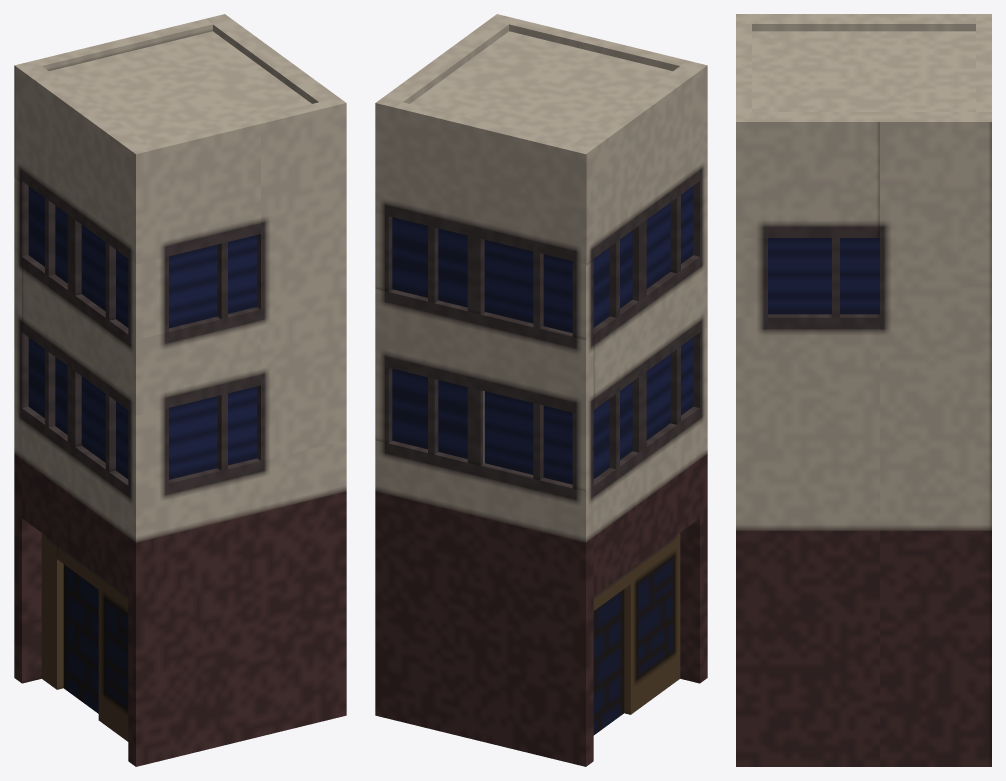
3 views of the same model, side by side, from view 1: azimuth 30°, elevation 25°; view 2: azimuth 150°, elevation 25°; view 3: azimuth 270°, elevation 25° (orthographic). The views are drawn at different scales.
Parts seen in each view (by area): view 1: Content; view 2: Content; view 3: Content.
Part boxes in pixels (x1,y1,x2,y2): Content: [14, 14, 346, 766]; Content: [375, 14, 707, 766]; Content: [736, 14, 991, 766].
Size of the model in its own units: 32 by 89 by 32.
1 material, 1 textured.
